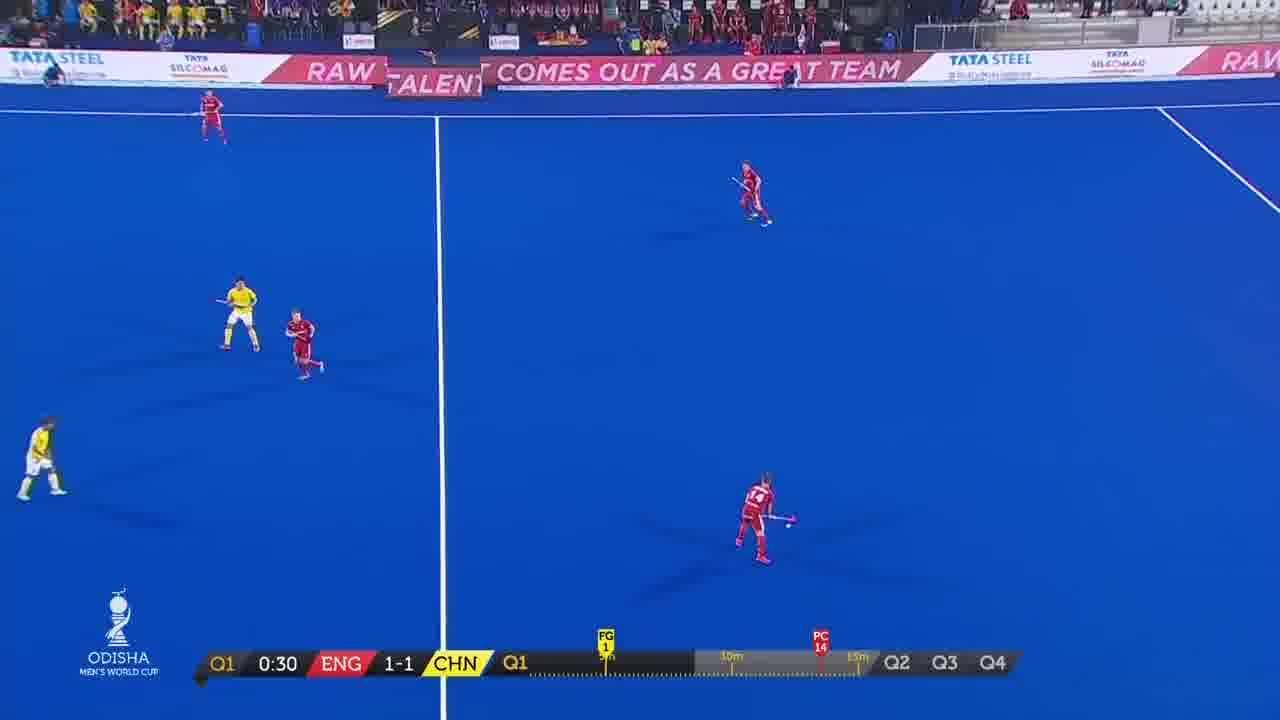ball: (784, 520, 796, 533)
